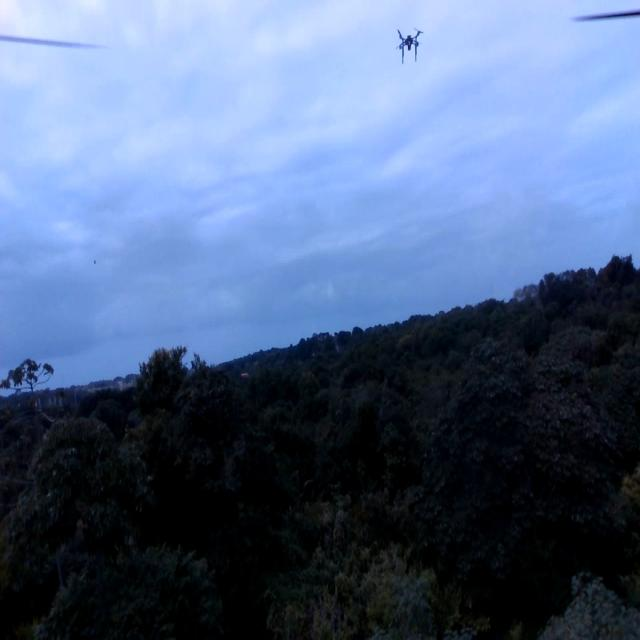-uav-: (390, 20, 429, 75)
